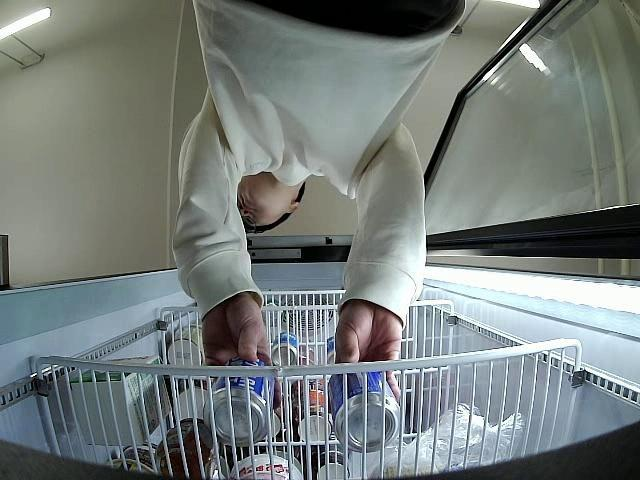13_pocariSweat: (326, 371, 400, 458), (206, 354, 273, 446)
